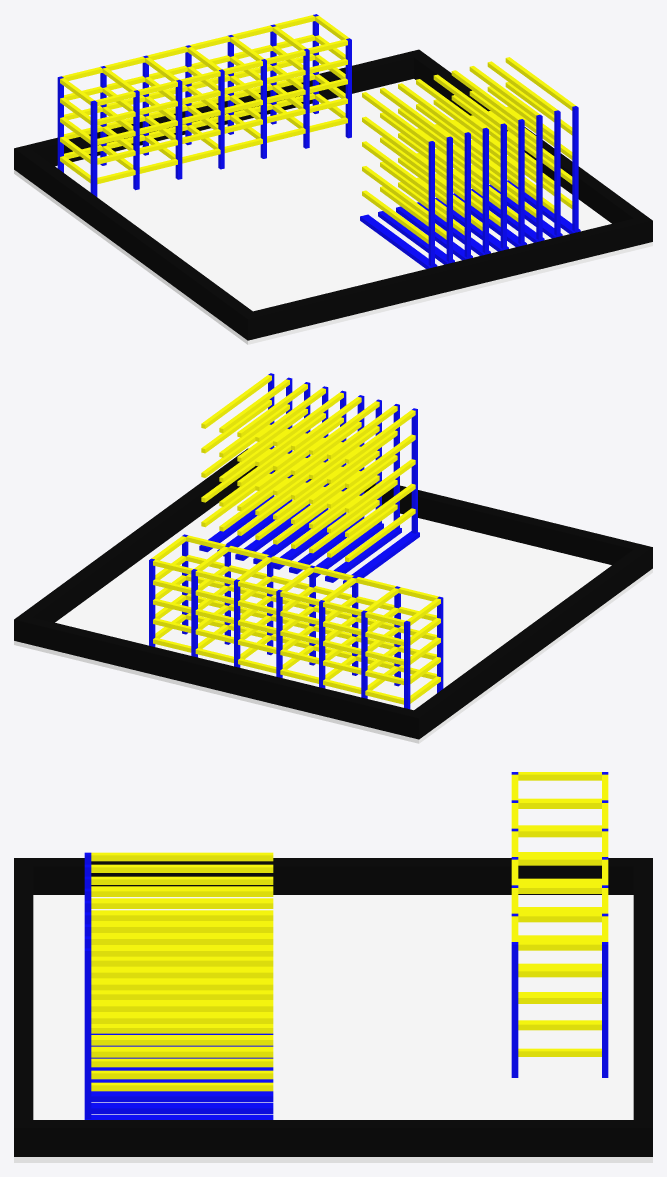
3 views of the same model, one above another, from view 1: azimuth 30°, elevation 25°; view 2: azimuth 150°, elevation 25°; view 3: azimuth 270°, elevation 25° (orthographic). The views are drawn at different scales.
Parts seen in each view (by area): view 1: Floor, Wall, Spalla (×17), Mensola (×24), Base (×3); view 2: Floor, Wall, Mensola (×27), Spalla (×9), Base (×7); view 3: Floor, Wall, Mensola (×21), Corrente (×11), Base (×5), Spalla (×3).
Boxes of the visible parts, box(x1,y1,x2,y2) form: Floor: box(14, 79, 652, 344); Wall: box(14, 49, 652, 340); Spalla (×17): box(57, 38, 578, 266); Mensola (×24): box(362, 57, 575, 243); Base (×3): box(360, 206, 472, 268); Floor: box(14, 490, 652, 743); Wall: box(14, 448, 652, 739); Mensola (×27): box(201, 375, 415, 562); Spalla (×9): box(149, 408, 443, 709); Base (×7): box(199, 498, 419, 587); Floor: box(14, 895, 652, 1162); Wall: box(14, 858, 652, 1156); Mensola (×21): box(91, 852, 273, 1091); Corrente (×11): box(518, 772, 601, 1056); Base (×5): box(84, 1067, 273, 1119); Spalla (×3): box(84, 942, 608, 1118).
Bounding box in the file's own units: 100 × 31 × 100.
